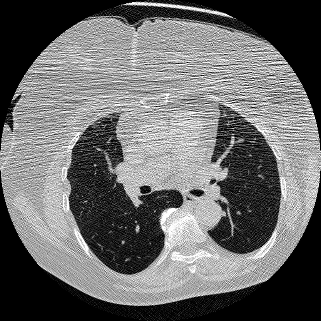nodule: (239, 139, 243, 143)
